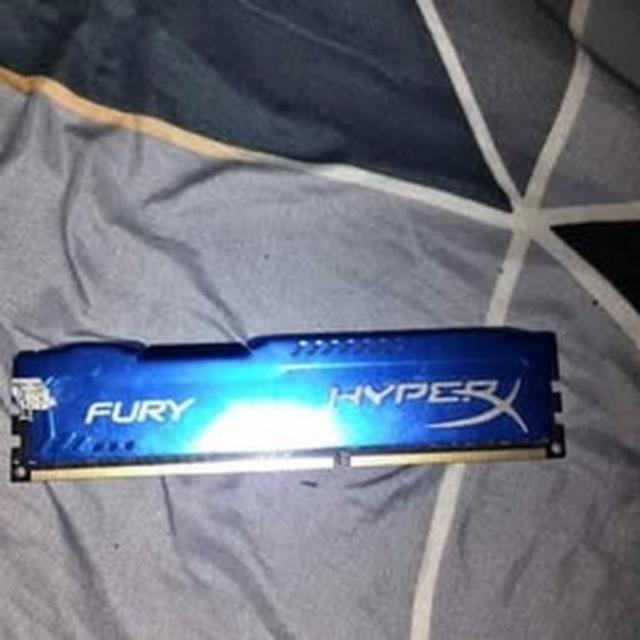RAM: (3, 318, 572, 480)
